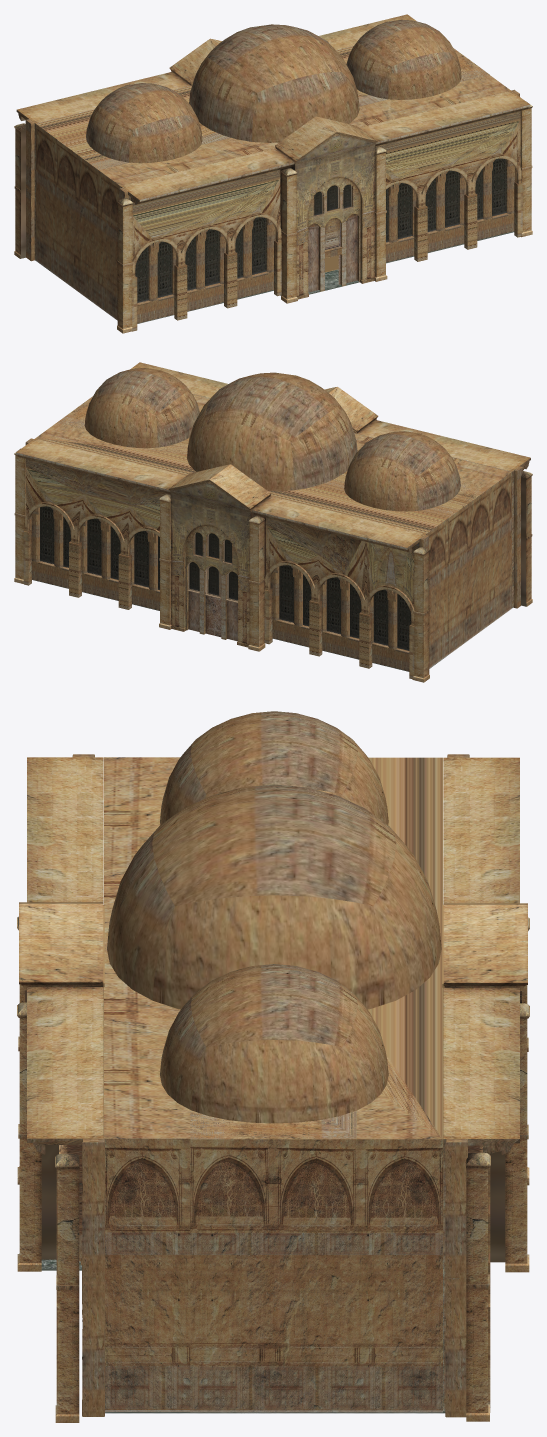
Rendered from build5a.gltf.
The picture shows the model from 3 angles, top to bottom: view 1: azimuth 30°, elevation 25°; view 2: azimuth 150°, elevation 25°; view 3: azimuth 270°, elevation 25°; orthographic projection. The views are drawn at different scales.
Visible parts, largest first — view 1: build5a; view 2: build5a; view 3: build5a.
Part boxes in pixels (x1=…): build5a: x1=14, y1=14, x2=532, y2=333; build5a: x1=14, y1=362, x2=532, y2=682; build5a: x1=17, y1=711, x2=529, y2=1422.
Bounding box in the file's own units: 32.96 × 16.22 × 17.87.
Materials: 7 (7 with a texture image).
